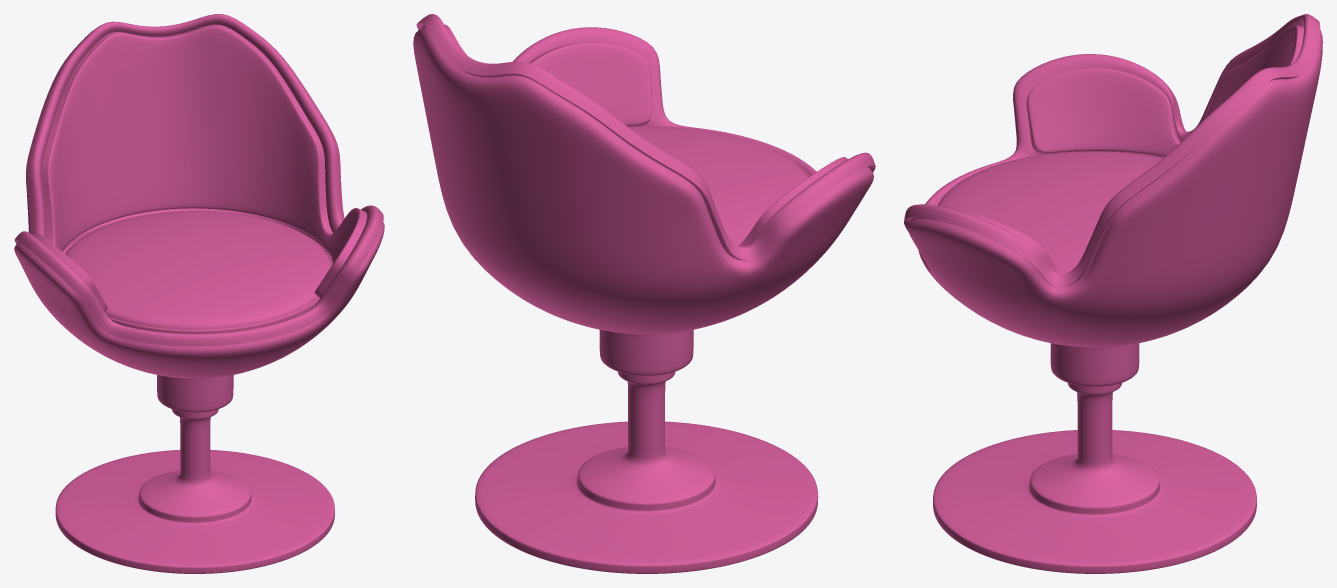
The model's file is chair01.fbx.
The picture shows the model from 3 angles, left to right: view 1: azimuth 30°, elevation 25°; view 2: azimuth 150°, elevation 25°; view 3: azimuth 270°, elevation 25°; orthographic projection. The views are drawn at different scales.
Parts seen in each view (by area): view 1: Chair_03, Back, Frame; view 2: Back, Chair_03, Frame; view 3: Back, Chair_03, Frame.
Part boxes in pixels (x1,y1,x2,y2): Chair_03: (32, 24, 367, 333); Back: (14, 155, 384, 573); Frame: (15, 14, 383, 346); Back: (413, 22, 875, 573); Chair_03: (444, 24, 847, 246); Frame: (417, 14, 875, 260); Back: (904, 30, 1322, 573); Chair_03: (935, 25, 1304, 274); Frame: (904, 14, 1320, 287).
Bounding box in the file's own units: 7845 × 10000 × 7708.
